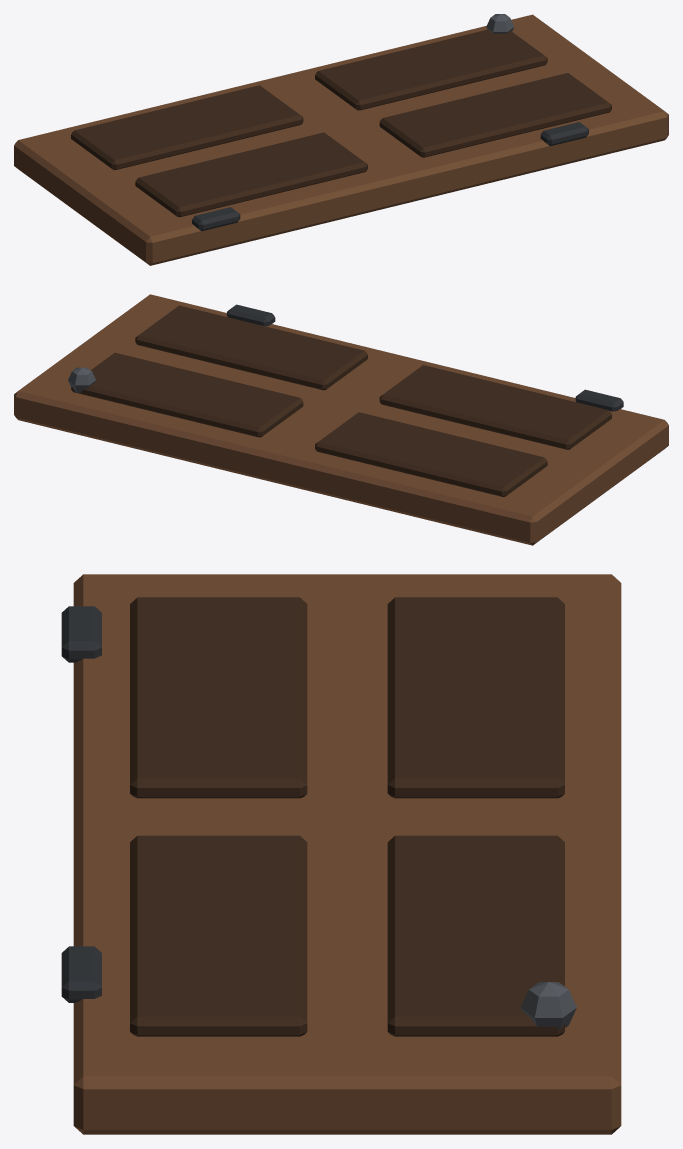
The model's file is door2.glb.
3 views of the same model, one above another, from view 1: azimuth 30°, elevation 25°; view 2: azimuth 150°, elevation 25°; view 3: azimuth 270°, elevation 25° (orthographic). The views are drawn at different scales.
Parts seen in each view (by area): view 1: Door; view 2: Door; view 3: Door.
Part boxes in pixels (x1,y1,x2,y2): Door: [14, 14, 668, 265]; Door: [14, 294, 668, 545]; Door: [61, 574, 621, 1134].
Bounding box in the file's own units: 1.5 × 0.145 × 0.695.
